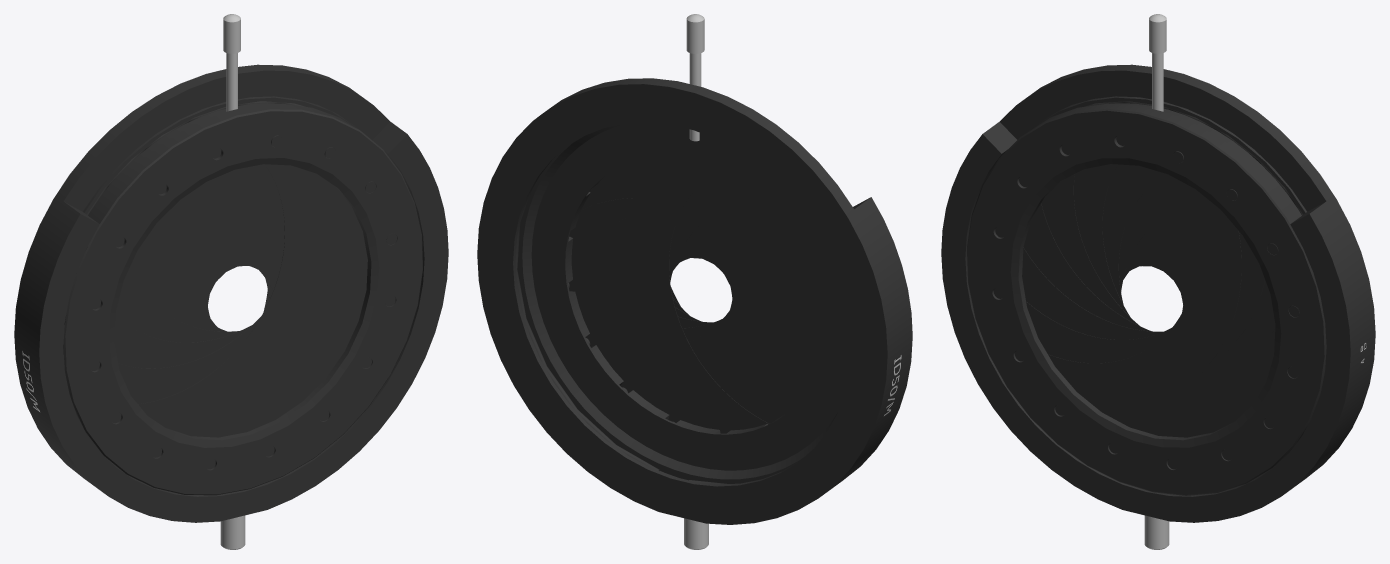
3 renders of one model, left to right at view 1: azimuth 30°, elevation 25°; view 2: azimuth 150°, elevation 25°; view 3: azimuth 330°, elevation 25°, orthographic.
Visible parts, largest first — view 1: housing, blade_04, blade_03, blade_02, blade_01, blade_16, blade_15, blade_14, blade_13, actuator, blade_11, blade_10 (+1 smaller); view 2: housing, actuator, blade_05, blade_06, blade_07, blade_08, blade_09, blade_12, blade_10, blade_11, blade_13, blade_14 (+1 smaller); view 3: housing, blade_04, blade_03, blade_02, blade_01, blade_16, blade_15, blade_14, blade_13, actuator, blade_11, blade_12 (+1 smaller).
Part boxes in pixels (x1,y1,x2,y2): housing: [14, 64, 448, 549]; blade_04: [138, 135, 330, 435]; blade_03: [118, 147, 355, 403]; blade_02: [114, 181, 375, 368]; blade_01: [116, 233, 397, 369]; blade_16: [131, 218, 395, 385]; blade_15: [161, 183, 371, 407]; blade_14: [190, 166, 329, 431]; blade_13: [194, 164, 276, 456]; actuator: [88, 14, 280, 218]; blade_11: [152, 191, 284, 457]; blade_10: [111, 237, 284, 423]; housing: [477, 78, 912, 549]; actuator: [517, 14, 851, 483]; blade_05: [623, 156, 769, 433]; blade_06: [622, 169, 763, 426]; blade_07: [606, 197, 797, 403]; blade_08: [581, 231, 819, 363]; blade_09: [568, 218, 824, 341]; blade_12: [602, 157, 792, 423]; blade_10: [569, 198, 823, 389]; blade_11: [582, 172, 806, 422]; blade_13: [715, 287, 747, 403]; blade_14: [699, 300, 733, 380]; housing: [941, 64, 1375, 549]; blade_04: [1048, 151, 1241, 412]; blade_03: [1026, 189, 1264, 367]; blade_02: [1022, 243, 1278, 377]; blade_01: [1023, 203, 1299, 388]; blade_16: [1041, 174, 1298, 412]; blade_15: [1074, 164, 1274, 433]; blade_14: [1102, 164, 1232, 460]; blade_13: [1107, 173, 1187, 469]; actuator: [1110, 14, 1301, 218]; blade_11: [1055, 209, 1195, 415]; blade_12: [1102, 205, 1193, 453].
Bounding box in the file's own units: 0.0794 × 0.0981 × 0.00851.
Materials: 3 (1 with a texture image).
